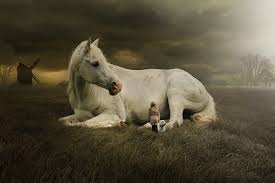horse: (57, 39, 218, 132)
